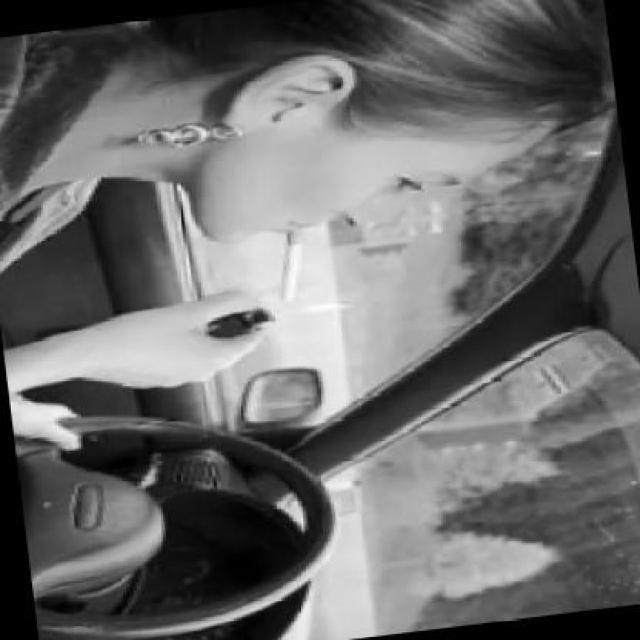cigarette: (268, 226, 312, 305)
